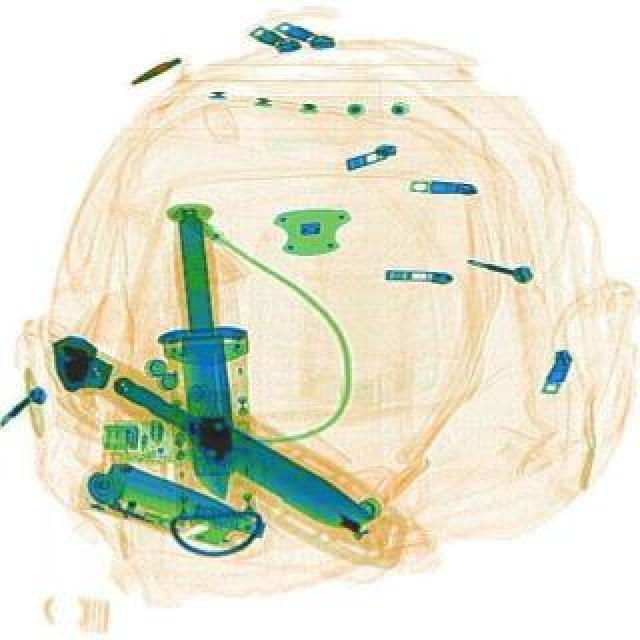knife: (146, 206, 264, 506)
